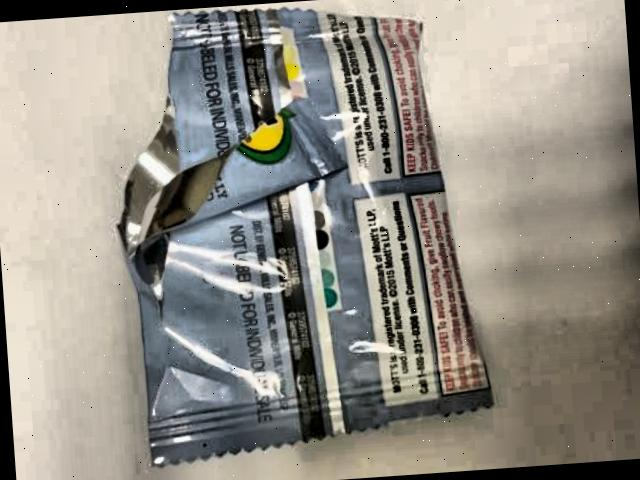Plastic: (52, 0, 508, 479)
